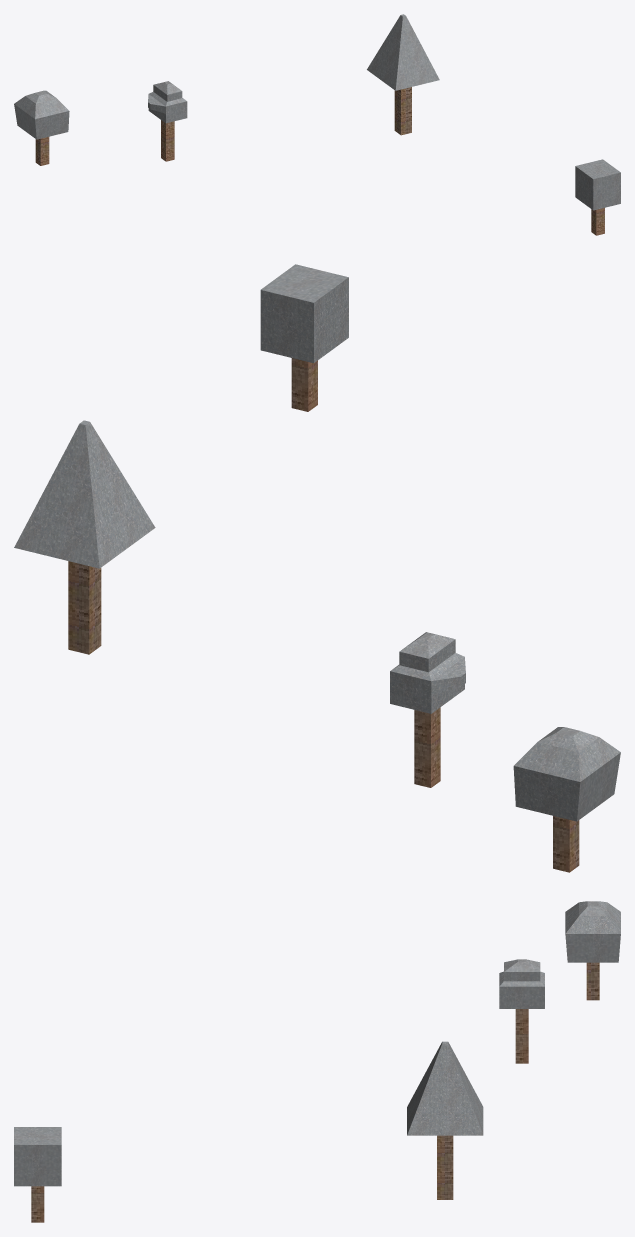
Rendered from BLOCKTGON_TREE.fbx.
3 renders of one model, top to bottom at view 1: azimuth 30°, elevation 25°; view 2: azimuth 150°, elevation 25°; view 3: azimuth 270°, elevation 25°, orthographic. The views are drawn at different scales.
Visible parts, largest first — view 1: BLOCKYGON_TREE_1, BLOCKYGON_TREE_2, BLOCKYGON_TREE, BLOCKYGON_TREE_3; view 2: BLOCKYGON_TREE_1, BLOCKYGON_TREE_2, BLOCKYGON_TREE, BLOCKYGON_TREE_3; view 3: BLOCKYGON_TREE_1, BLOCKYGON_TREE_2, BLOCKYGON_TREE, BLOCKYGON_TREE_3.
Boxes of the visible parts, box(x1,y1,x2,y2) form: BLOCKYGON_TREE_1: box(367, 14, 439, 135); BLOCKYGON_TREE_2: box(14, 90, 69, 165); BLOCKYGON_TREE: box(575, 159, 620, 235); BLOCKYGON_TREE_3: box(148, 81, 187, 161); BLOCKYGON_TREE_1: box(14, 420, 155, 654); BLOCKYGON_TREE_2: box(513, 727, 620, 872); BLOCKYGON_TREE: box(260, 264, 348, 411); BLOCKYGON_TREE_3: box(390, 632, 465, 787); BLOCKYGON_TREE_1: box(407, 1041, 483, 1199); BLOCKYGON_TREE_2: box(565, 901, 620, 1000); BLOCKYGON_TREE: box(14, 1127, 61, 1222); BLOCKYGON_TREE_3: box(499, 959, 544, 1063).
Bounding box in the file's own units: 1748 × 515 × 1845.
